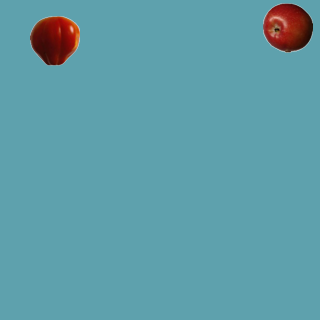Apple Braeburn: (262, 2, 312, 52)
Tomato 1: (29, 15, 79, 65)
